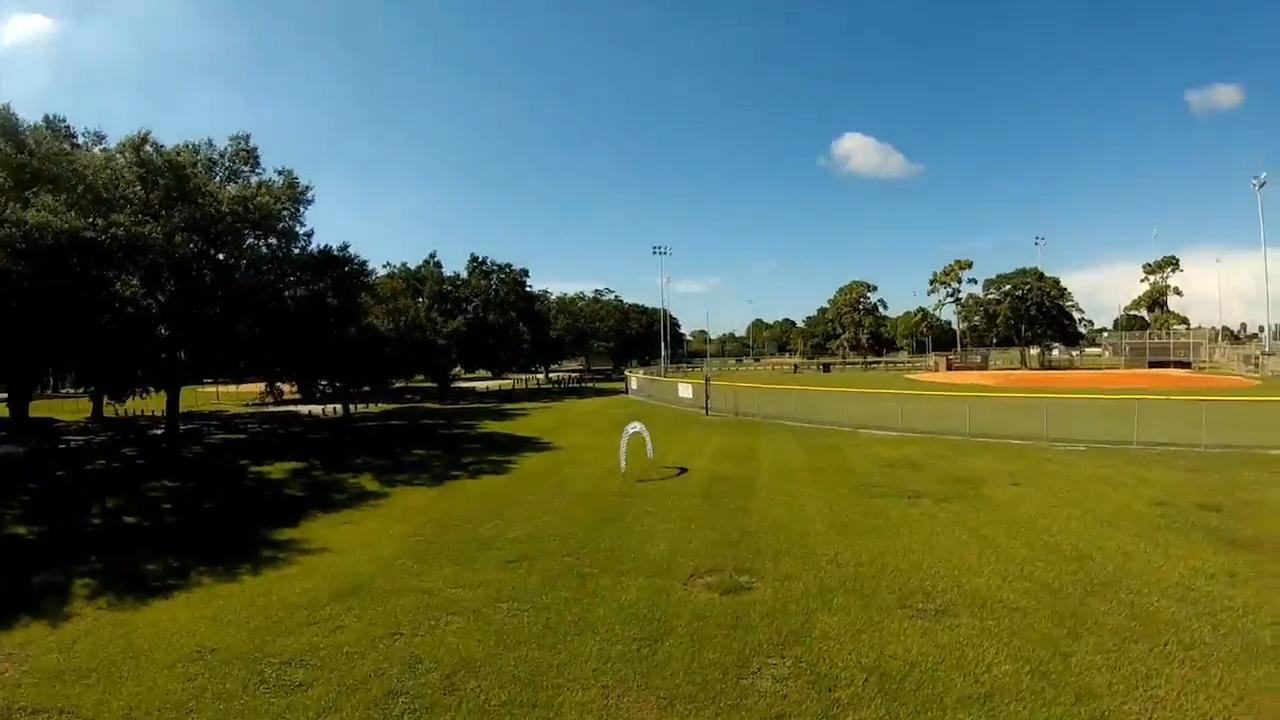gate: (616, 419, 656, 470)
